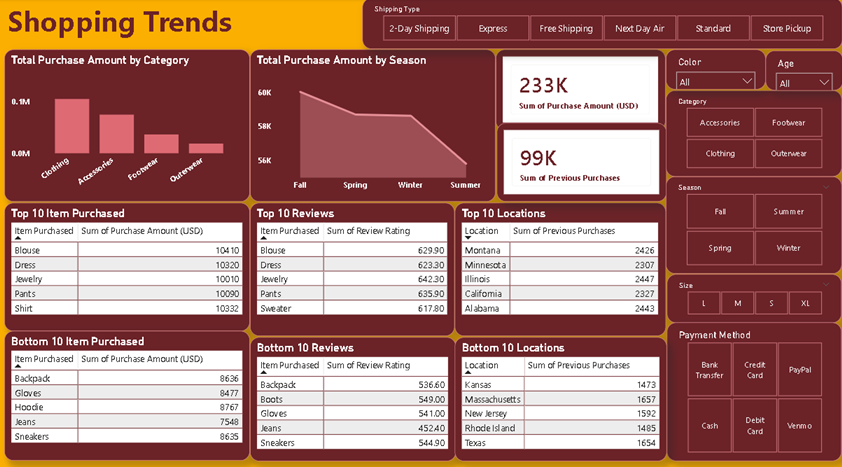

This screenshot's page, from the dashboard's own definition file:
{"tool":"powerbi","page":{"name":"Dashboard","canvas":[1280,720],"ordinal":0},"visuals":[{"type":"textbox","box":[9.5,0,399.2,77.9],"z":0},{"type":"clusteredColumnChart","title":"Total Purchase Amount by Category","fields":{"Category":["shopping_trends.Category"],"Y":["Sum(shopping_trends.Purchase Amount (USD))"]},"box":[9.4,77.5,372.3,230.6],"z":1000},{"type":"pivotTable","title":"Top 10 Item Purchased","fields":{"Rows":["shopping_trends.Item Purchased"],"Values":["Sum(shopping_trends.Purchase Amount (USD))"]},"box":[9.4,309.9,372.3,194.6],"z":2000},{"type":"stackedAreaChart","title":"Total Purchase Amount by Season","fields":{"Category":["shopping_trends.Season"],"Y":["Sum(shopping_trends.Purchase Amount (USD))"]},"box":[381.7,77.5,372.3,230.6],"z":3000},{"type":"pivotTable","title":"Top 10 Reviews","fields":{"Rows":["shopping_trends.Item Purchased"],"Values":["Sum(shopping_trends.Review Rating)"]},"box":[381.7,310.2,310.2,202],"z":4000},{"type":"pivotTable","title":"Top 10 Locations","fields":{"Rows":["shopping_trends.Location"],"Values":["Sum(shopping_trends.Previous Purchases)"]},"box":[691.9,310.2,319.7,202],"z":5000},{"type":"cardVisual","fields":{"Data":["Sum(shopping_trends.Purchase Amount (USD))"]},"box":[754,77.5,257,122.8],"z":6000},{"type":"cardVisual","fields":{"Data":["Sum(shopping_trends.Previous Purchases)"]},"box":[755.9,189,257,119.1],"z":7000},{"type":"slicer","fields":{"Values":["shopping_trends.Category"]},"box":[1011,139.8,266.5,130.4],"z":8000},{"type":"slicer","fields":{"Values":["shopping_trends.Season"]},"box":[1011,270.2,266.5,147.4],"z":9000},{"type":"slicer","fields":{"Values":["shopping_trends.Size"]},"box":[1012.9,417.6,264.6,73.7],"z":10000},{"type":"slicer","fields":{"Values":["shopping_trends.Payment Method"]},"box":[1012.9,491.3,264.6,209.8],"z":11000},{"type":"slicer","fields":{"Values":["shopping_trends.Shipping Type"]},"box":[551.8,0,727.6,77.5],"z":12000},{"type":"slicer","fields":{"Values":["shopping_trends.Color"]},"box":[1011,77.5,151.2,60.5],"z":13000},{"type":"slicer","fields":{"Values":["shopping_trends.Age"]},"box":[1162.2,79.4,117.2,60.5],"z":14000},{"type":"pivotTable","title":"Bottom 10 Item Purchased","fields":{"Rows":["shopping_trends.Item Purchased"],"Values":["Sum(shopping_trends.Purchase Amount (USD))"]},"box":[9.4,504.6,372.3,196.5],"z":15000},{"type":"pivotTable","title":"Bottom 10 Reviews","fields":{"Rows":["shopping_trends.Item Purchased"],"Values":["Sum(shopping_trends.Review Rating)"]},"box":[381.7,513.8,311.8,187.7],"z":16000},{"type":"pivotTable","title":"Bottom 10 Locations","fields":{"Rows":["shopping_trends.Location"],"Values":["Sum(shopping_trends.Previous Purchases)"]},"box":[691.9,513.8,321.3,187.7],"z":17000}]}

Visuals, with their boxes in screenshot pixels (x1, y1, x2, y2), scaled from the page's 1280x720 canvas onto the 842x467 screenshot:
textbox: <box>6,0,269,51</box>
"Total Purchase Amount by Category" clusteredColumnChart: <box>6,50,251,200</box>
"Top 10 Item Purchased" pivotTable: <box>6,201,251,327</box>
"Total Purchase Amount by Season" stackedAreaChart: <box>251,50,496,200</box>
"Top 10 Reviews" pivotTable: <box>251,201,455,332</box>
"Top 10 Locations" pivotTable: <box>455,201,665,332</box>
cardVisual - Sum(shopping_trends.Purchase Amount (USD)): <box>496,50,665,130</box>
cardVisual - Sum(shopping_trends.Previous Purchases): <box>497,123,666,200</box>
slicer - shopping_trends.Category: <box>665,91,840,175</box>
slicer - shopping_trends.Season: <box>665,175,840,271</box>
slicer - shopping_trends.Size: <box>666,271,840,319</box>
slicer - shopping_trends.Payment Method: <box>666,319,840,455</box>
slicer - shopping_trends.Shipping Type: <box>363,0,841,50</box>
slicer - shopping_trends.Color: <box>665,50,765,90</box>
slicer - shopping_trends.Age: <box>765,51,841,91</box>
"Bottom 10 Item Purchased" pivotTable: <box>6,327,251,455</box>
"Bottom 10 Reviews" pivotTable: <box>251,333,456,455</box>
"Bottom 10 Locations" pivotTable: <box>455,333,666,455</box>
